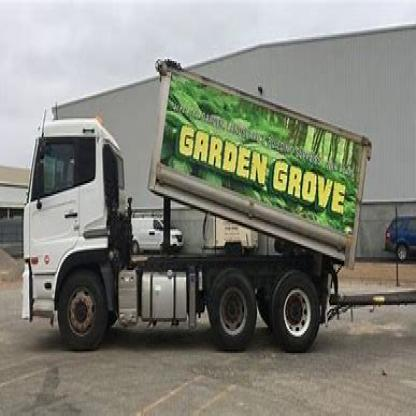dump_truck: (13, 46, 373, 361)
